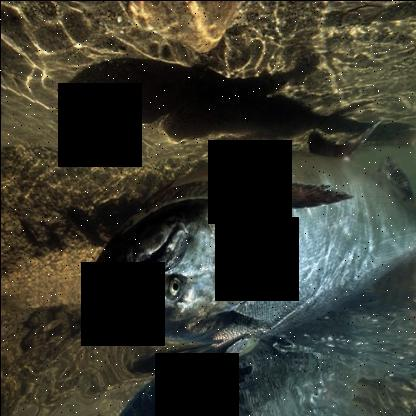fish: (84, 118, 415, 362)
